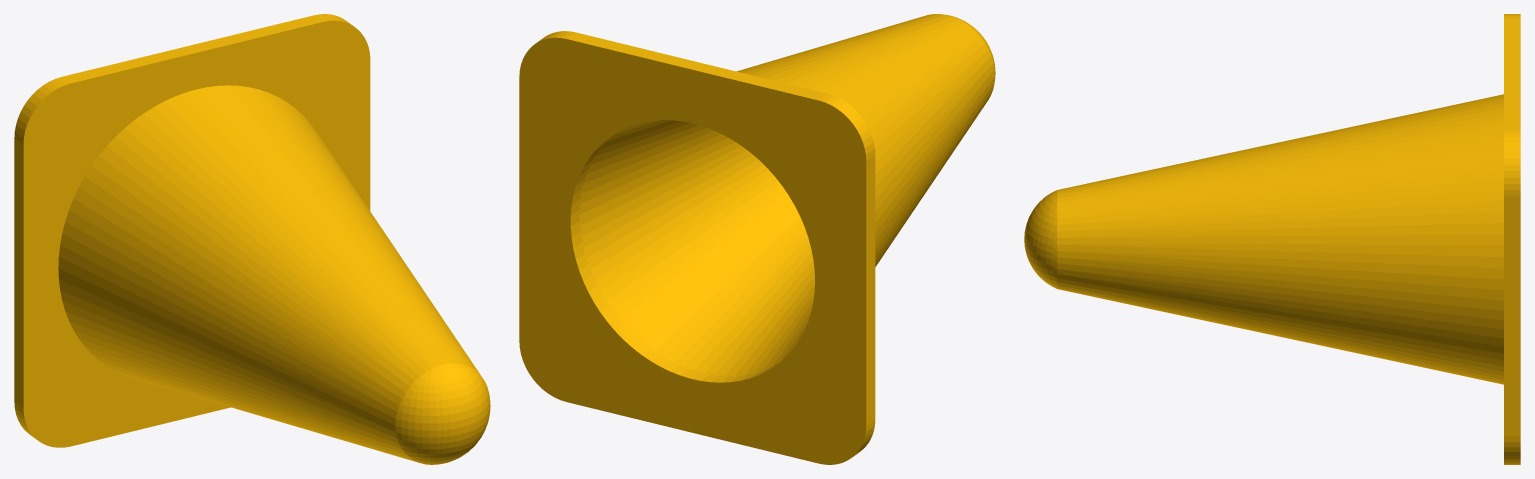
3 views of the same model, side by side, from view 1: azimuth 30°, elevation 25°; view 2: azimuth 150°, elevation 25°; view 3: azimuth 270°, elevation 25° (orthographic). The views are drawn at different scales.
Visible parts, largest first — view 1: cone.glb; view 2: cone.glb; view 3: cone.glb.
Boxes of the visible parts, x1,y1,x2,y2 form: cone.glb: (14,14,490,464); cone.glb: (519,14,995,464); cone.glb: (1024,14,1520,464).
Bounding box in the file's own units: 22 × 22 × 29.99.
